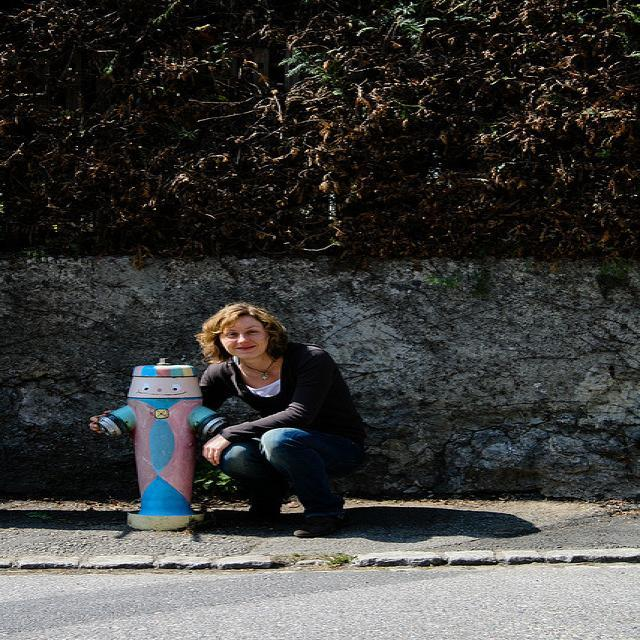fire_hydrant: (94, 358, 231, 530)
